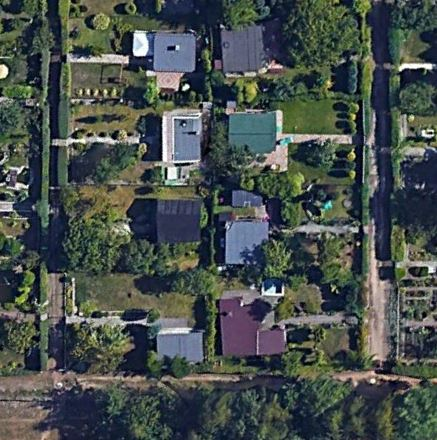family house: (216, 288, 291, 359), (158, 109, 210, 169), (152, 195, 205, 248), (222, 219, 277, 270), (221, 19, 270, 76), (227, 106, 277, 155), (147, 30, 199, 75), (154, 324, 206, 365)
